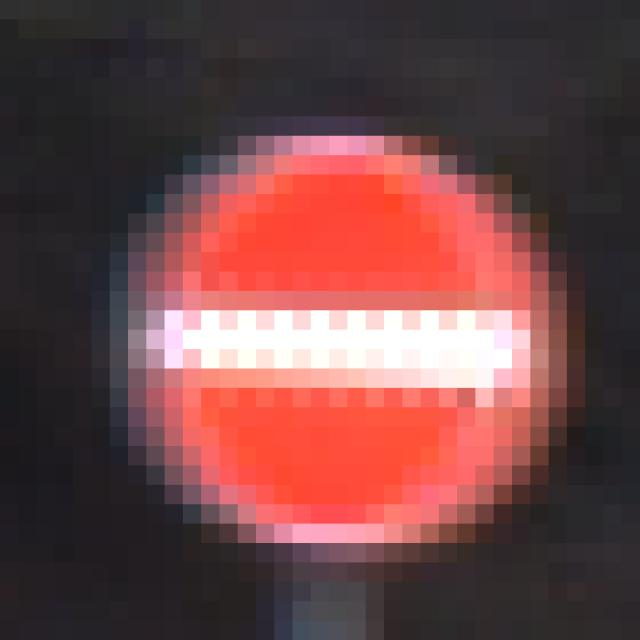No Entry: (111, 117, 550, 544)
